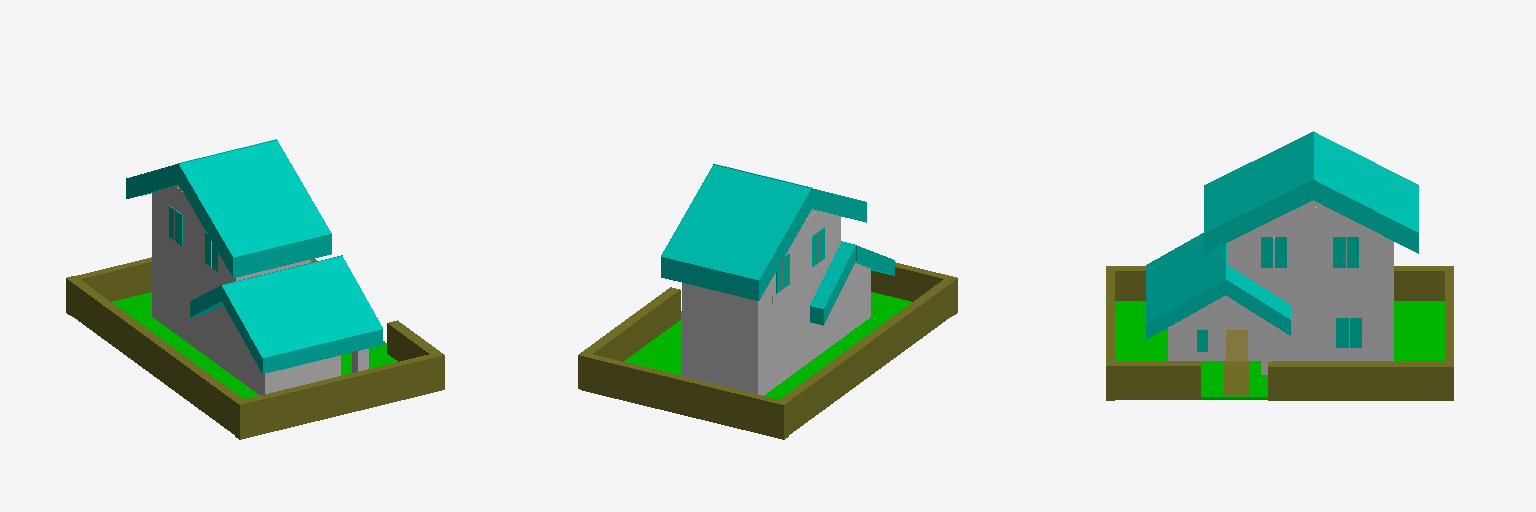
Rendered from house_blue.obj.
The picture shows the model from 3 angles: view 1: azimuth 30°, elevation 25°; view 2: azimuth 150°, elevation 25°; view 3: azimuth 270°, elevation 25°; orthographic projection.
Parts seen in each view (by area): view 1: Cube.001; view 2: Cube.001; view 3: Cube.001.
Boxes of the visible parts, <box> form: Cube.001: <box>66,139,444,439</box>; Cube.001: <box>578,164,957,439</box>; Cube.001: <box>1106,131,1453,400</box>.
Size of the model in its own units: 13.99 by 12.33 by 20.41.